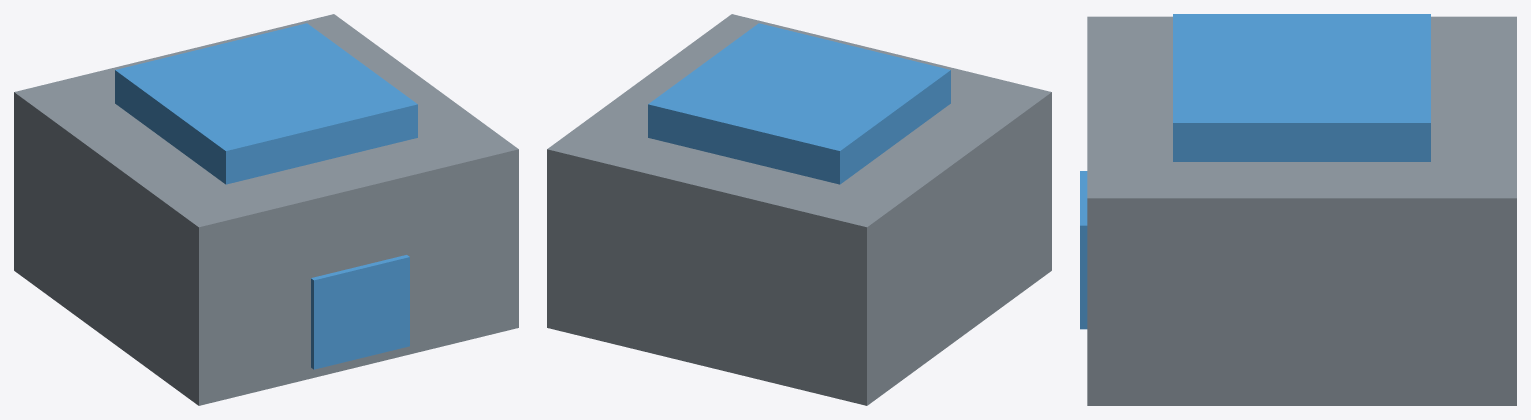
The model's file is AL_Barracks_LOD0.glb.
The picture shows the model from 3 angles, left to right: view 1: azimuth 30°, elevation 25°; view 2: azimuth 150°, elevation 25°; view 3: azimuth 270°, elevation 25°; orthographic projection. The views are drawn at different scales.
Parts seen in each view (by area): view 1: EntranceGate; view 2: EntranceGate; view 3: EntranceGate.
Part boxes in pixels (<box>): EntranceGate: <box>14,14,518,405</box>; EntranceGate: <box>547,14,1051,405</box>; EntranceGate: <box>1080,14,1516,405</box>.
Bounding box in the file's own units: 600 × 380 × 610.
